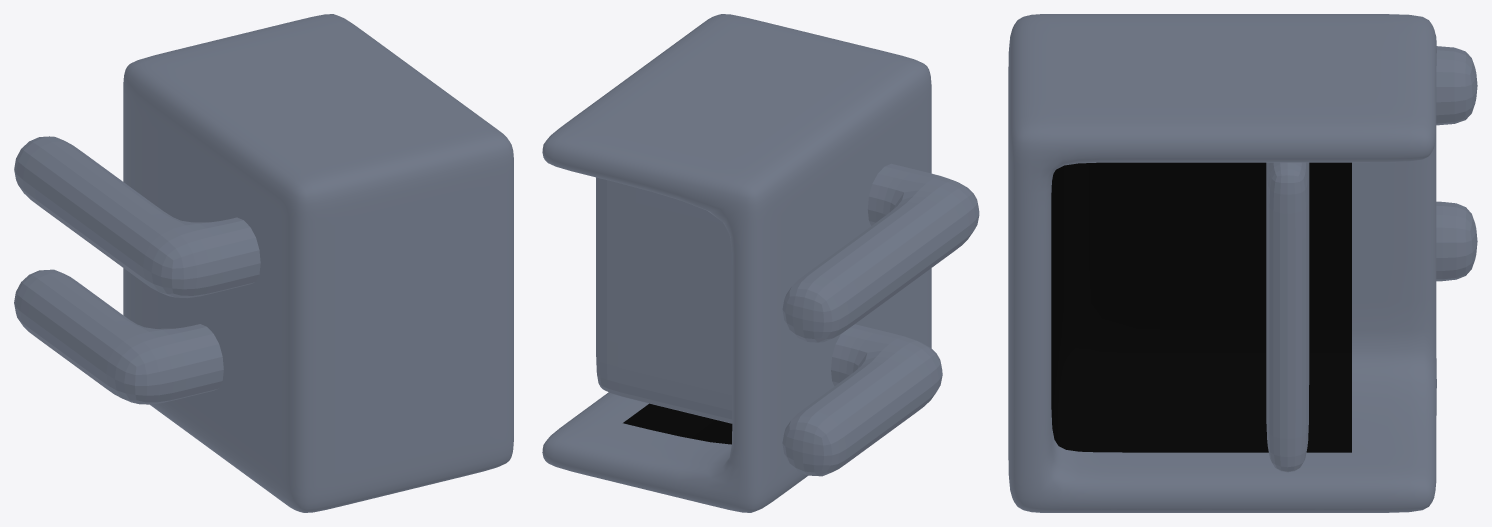
File: generator.glb
3 views of the same model, side by side, from view 1: azimuth 30°, elevation 25°; view 2: azimuth 150°, elevation 25°; view 3: azimuth 270°, elevation 25° (orthographic). The views are drawn at different scales.
Parts seen in each view (by area): view 1: Generator; view 2: Generator; view 3: Generator.
Boxes of the visible parts, bbox=[...] form: Generator: bbox=[14, 14, 513, 512]; Generator: bbox=[542, 14, 979, 512]; Generator: bbox=[1008, 14, 1477, 512].
Size of the model in its own units: 0.989 by 1 by 1.09.
